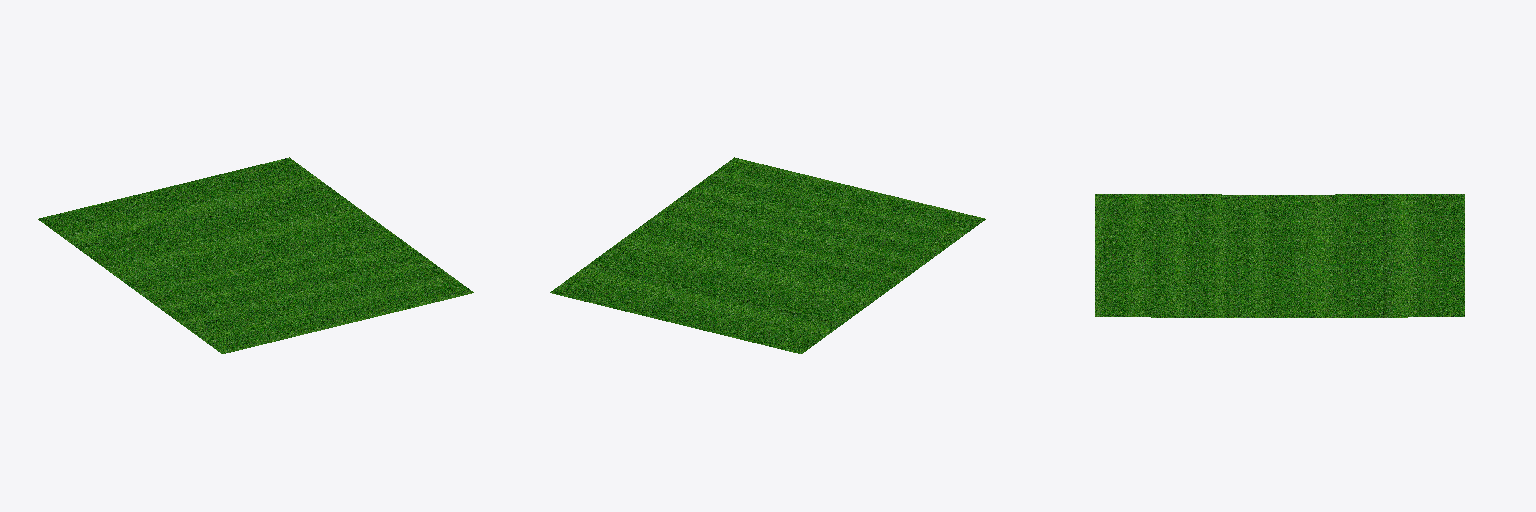
3 views of the same model, side by side, from view 1: azimuth 30°, elevation 25°; view 2: azimuth 150°, elevation 25°; view 3: azimuth 270°, elevation 25° (orthographic).
Visible parts, largest first — view 1: Terreno; view 2: Terreno; view 3: Terreno.
Boxes of the visible parts, <box> form: Terreno: <box>38,157,473,353</box>; Terreno: <box>550,157,985,353</box>; Terreno: <box>1095,194,1464,317</box>.
Size of the model in its own units: 500 by 0.2337 by 636.
1 materials, 1 textured.